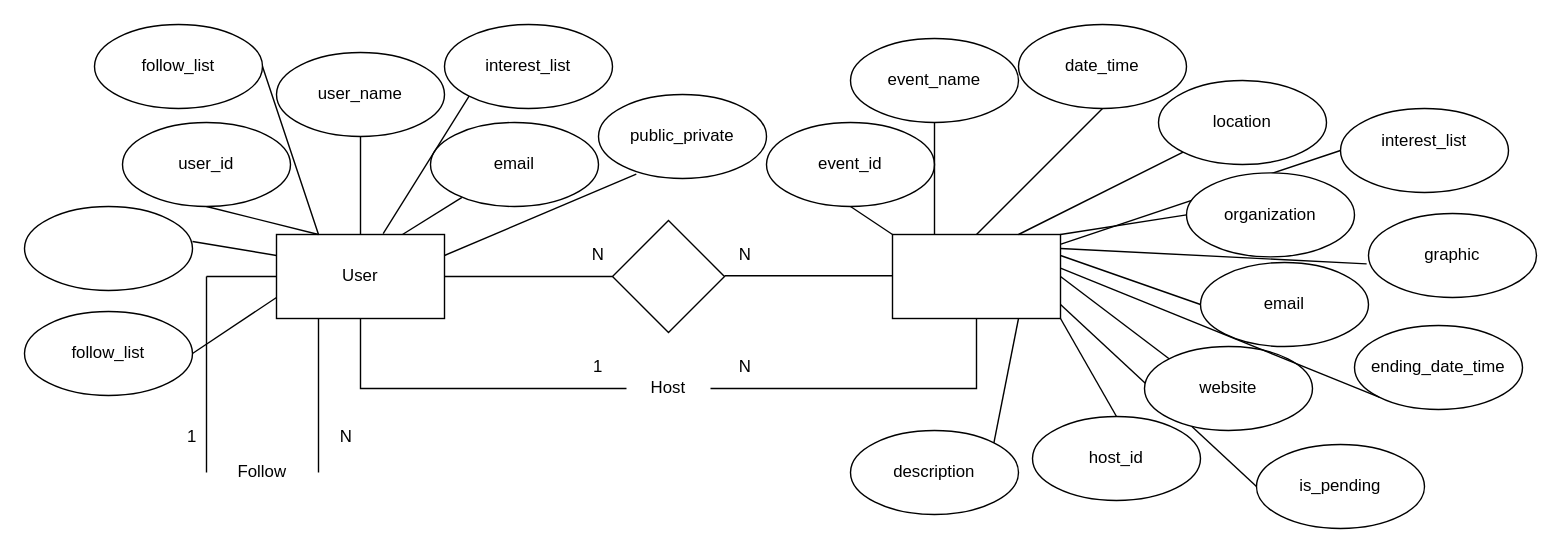
The diagram is 1561 pixels wide and 553 high, and some of its shapes have lost their labels. The shapes that lost their labels are listed below. From the top down, each one's box as (x1, y1, x2, y2) in pixels, then its label:
(23, 205, 192, 290): is_admin
(611, 219, 724, 332): Registrations
(891, 233, 1060, 318): Event
